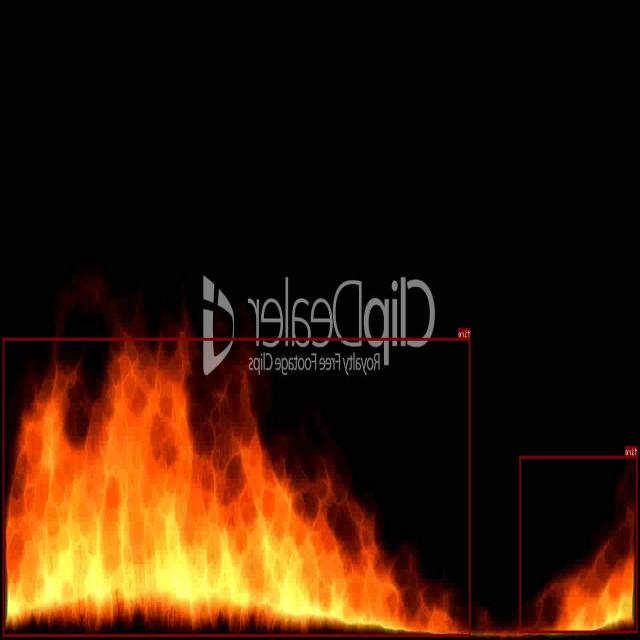fire: (3, 338, 471, 636), (520, 456, 638, 632)
